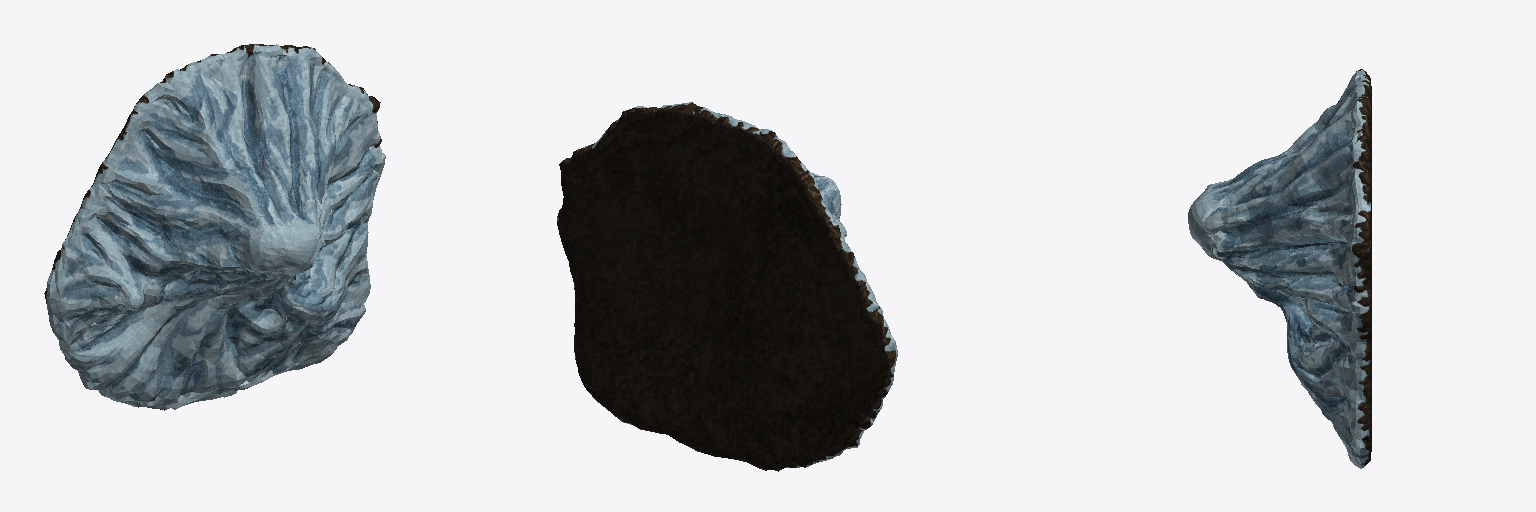
The picture shows the model from 3 angles: view 1: azimuth 30°, elevation 25°; view 2: azimuth 150°, elevation 25°; view 3: azimuth 270°, elevation 25°; orthographic projection.
Visible parts, largest first — view 1: Object.1; view 2: Object.1; view 3: Object.1.
Part boxes in pixels (left/top/right/bottom): Object.1: left=44, top=44, right=385, bottom=410; Object.1: left=557, top=102, right=897, bottom=471; Object.1: left=1188, top=69, right=1371, bottom=468.
Bounding box in the file's own units: 0.5119 × 0.5014 × 0.2417.
Materials: 1 (1 with a texture image).